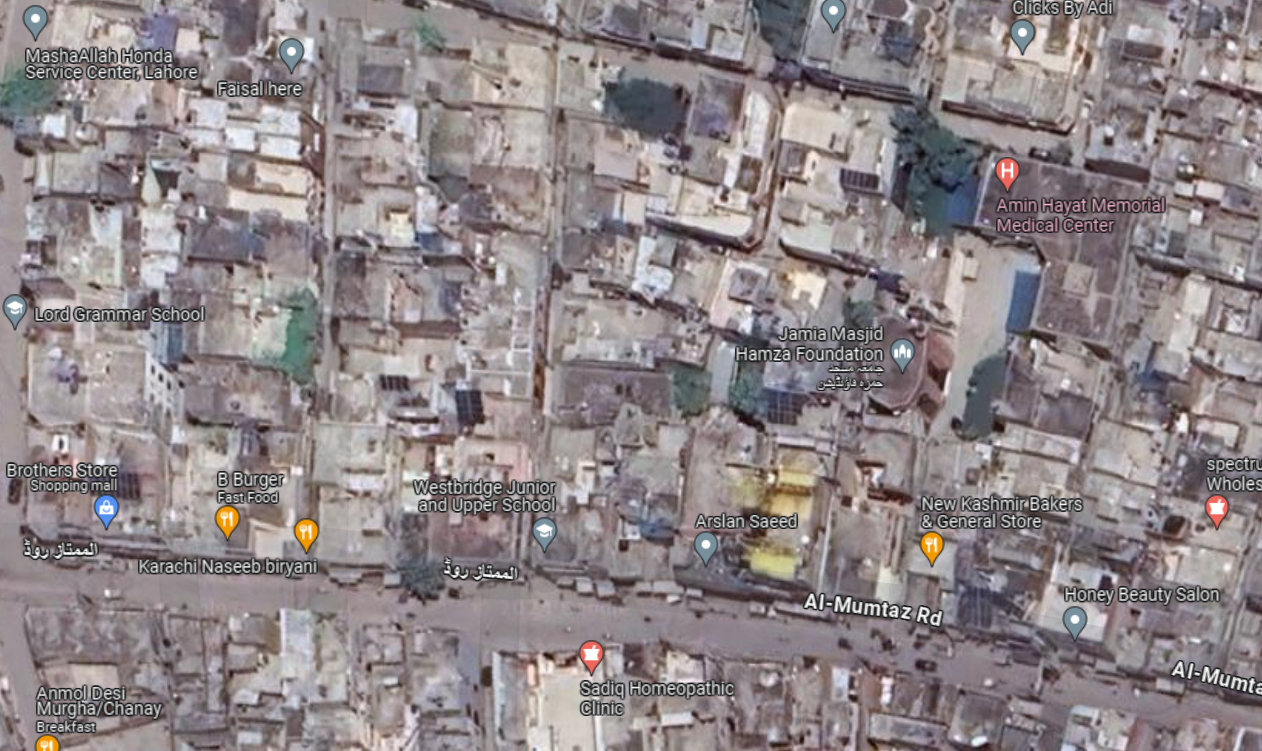solar-panel: (765, 387, 800, 424), (968, 581, 994, 630), (450, 391, 487, 425), (843, 169, 881, 189), (381, 375, 409, 390)
